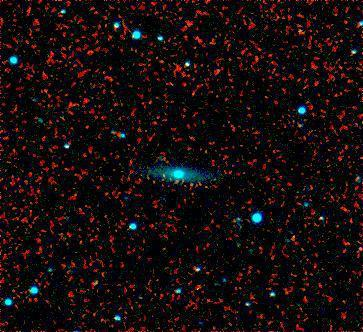star: (284, 11, 314, 41)
